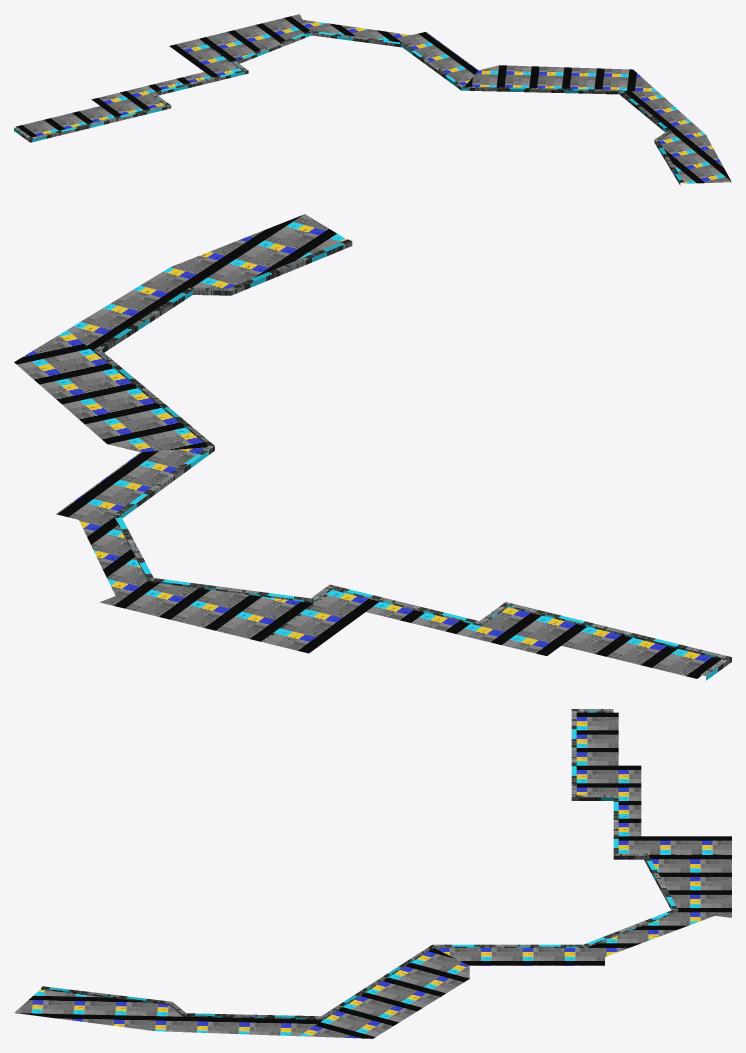
The model's file is downtown_sidewalk_7.fbx.
The picture shows the model from 3 angles, top to bottom: view 1: azimuth 30°, elevation 25°; view 2: azimuth 150°, elevation 25°; view 3: azimuth 270°, elevation 25°; orthographic projection. The views are drawn at different scales.
Parts seen in each view (by area): view 1: downtown_curb_1, downtown_curb_2, curb_tiles_1, curb_tiles_2; view 2: downtown_curb_1, curb_tiles_1, downtown_curb_2, curb_tiles_2; view 3: downtown_curb_1, curb_tiles_1, downtown_curb_2, curb_tiles_2.
Part boxes in pixels (x1,y1,x2,y2): downtown_curb_1: (14, 30, 463, 142); downtown_curb_2: (461, 65, 683, 185); curb_tiles_1: (199, 14, 478, 86); curb_tiles_2: (623, 91, 731, 183); downtown_curb_1: (114, 445, 731, 680); curb_tiles_1: (56, 447, 312, 641); downtown_curb_2: (14, 239, 352, 452); curb_tiles_2: (67, 214, 346, 351); downtown_curb_1: (433, 709, 731, 947); curb_tiles_1: (435, 855, 731, 965); downtown_curb_2: (41, 945, 469, 1038); curb_tiles_2: (14, 989, 323, 1036).
Size of the model in its own units: 2788 by 15 by 2576.
